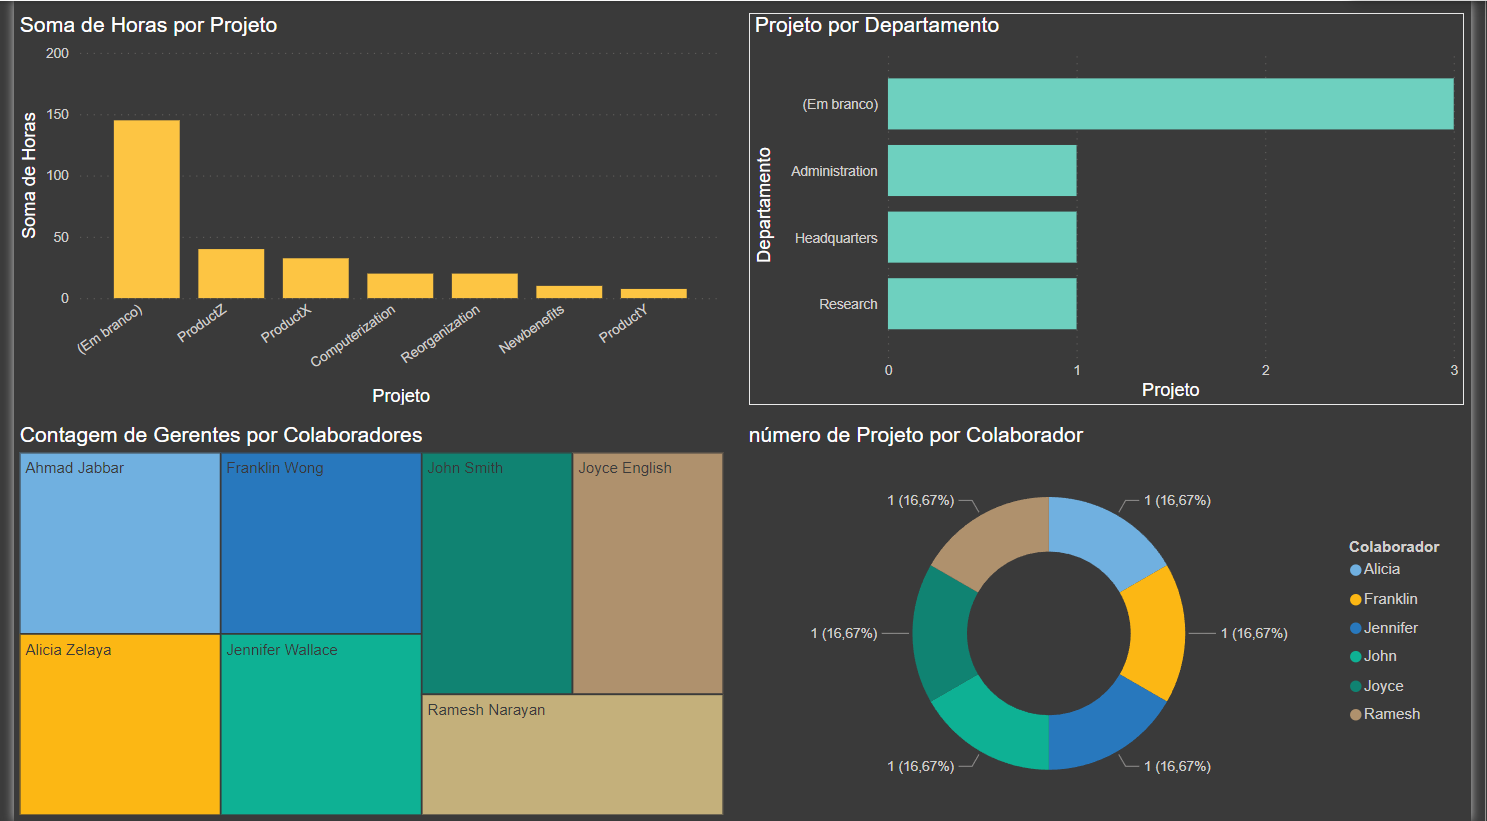

This screenshot's page, from the dashboard's own definition file:
{"tool":"powerbi","page":{"name":"Página 1","canvas":[1280,720],"ordinal":0},"visuals":[{"type":"columnChart","fields":{"Category":["az_company project.Pname"],"Y":["az_company works_on.Hours"]},"box":[0,10.6,626.9,349.4],"z":0},{"type":"treemap","fields":{"Group":["gerentes_colaboradores.Colaboradores"],"Values":["gerentes_colaboradores.Gerentes"]},"box":[0,370.6,627.8,349.4],"z":1000},{"type":"donutChart","title":"número de Projeto por Colaborador","fields":{"Category":["az_company employee.Fname"],"Y":["az_company project.Pname"]},"box":[640.2,370.6,633.1,348.5],"z":2000},{"type":"clusteredBarChart","fields":{"Y":["az_company project.Pname"],"Category":["az_company departament.Dname"]},"box":[645.5,10.6,627.8,344],"z":3000}]}

Visuals, with their boxes in screenshot pixels (x1, y1, x2, y2), scaled from the page's 1280x720 canvas onto the 1487x821 screenshot:
columnChart - az_company project.Pname x az_company works_on.Hours: pyautogui.locateOnScreen(0, 12, 728, 410)
treemap - gerentes_colaboradores.Colaboradores x gerentes_colaboradores.Gerentes: pyautogui.locateOnScreen(0, 423, 729, 820)
"número de Projeto por Colaborador" donutChart: pyautogui.locateOnScreen(744, 423, 1479, 820)
clusteredBarChart - az_company project.Pname x az_company departament.Dname: pyautogui.locateOnScreen(750, 12, 1479, 404)
